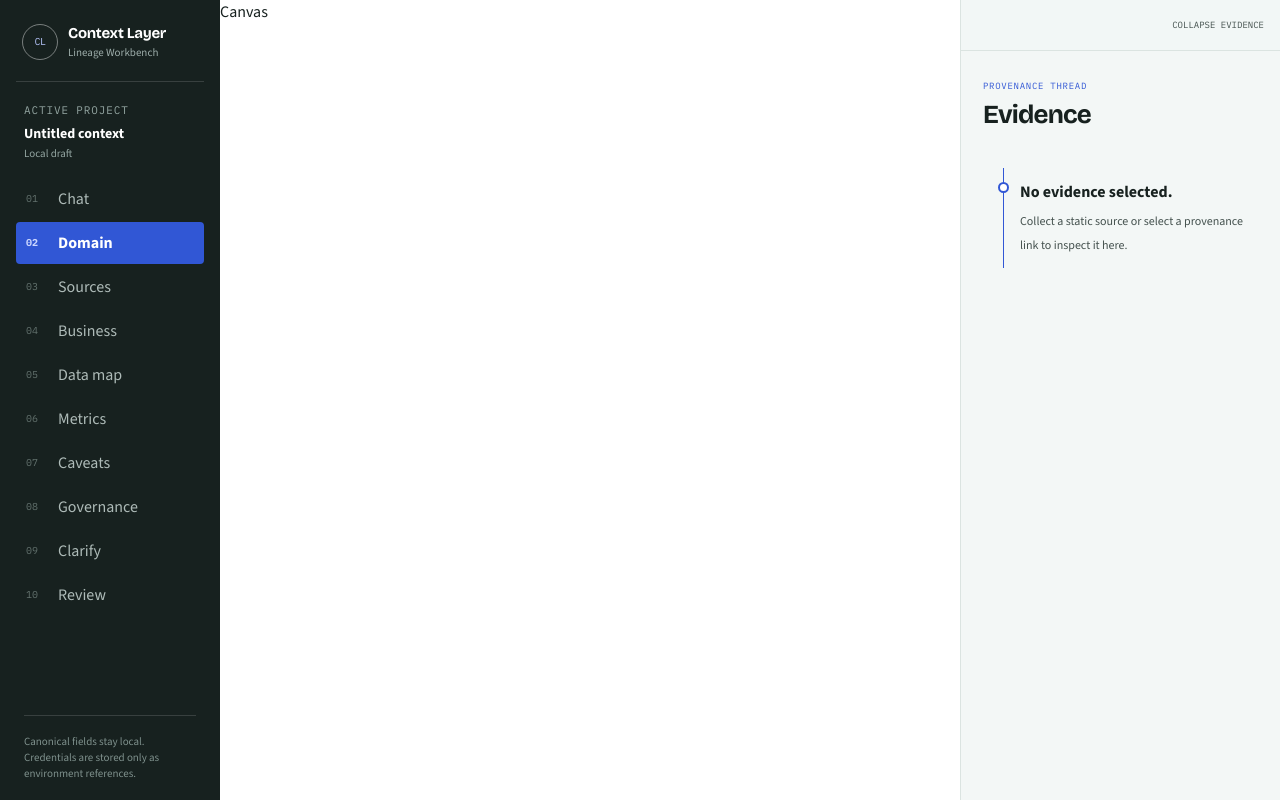
WorkbenchShell › reflects controlled evidence state after a toggle
Click the button "Collapse evidence": (1218, 24) x1=961 y1=0 x2=1279 y2=50
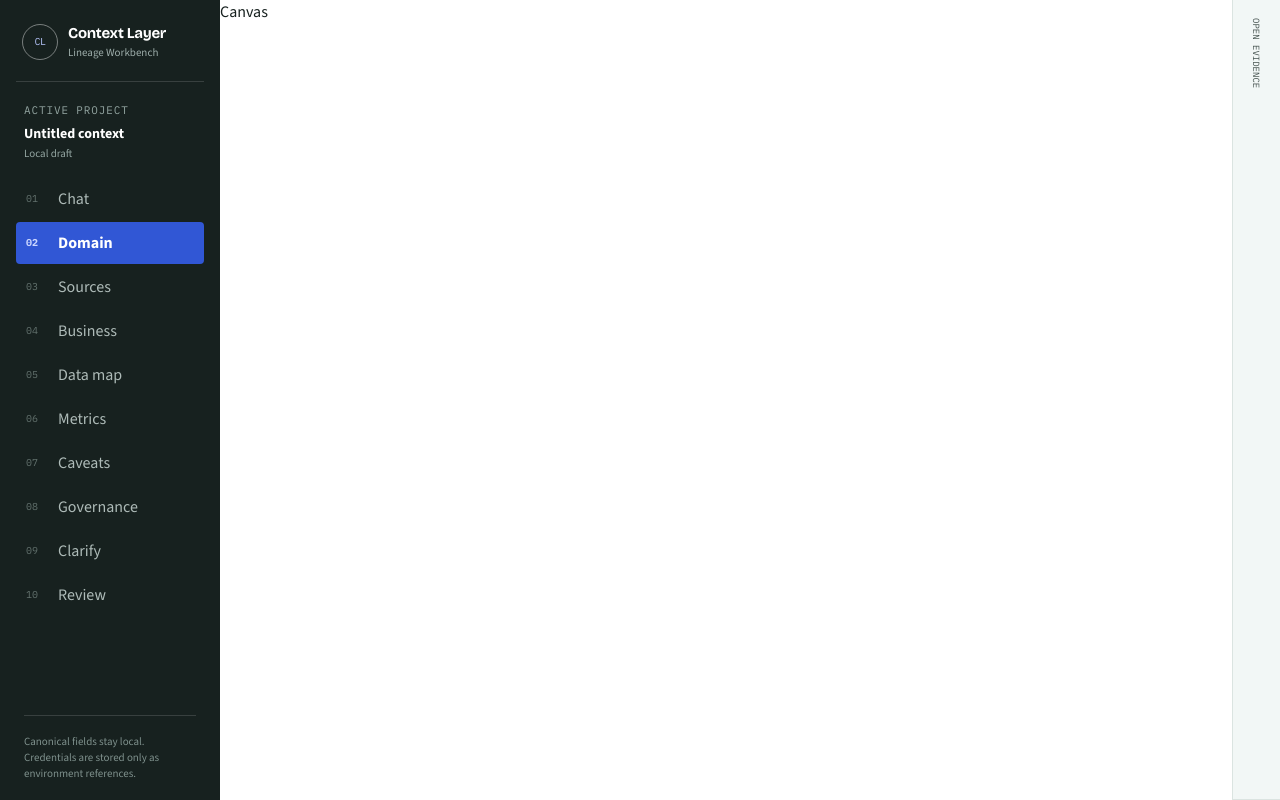
Expected: the button "Open evidence" is collapsed, x1=1233 y1=0 x2=1279 y2=799
